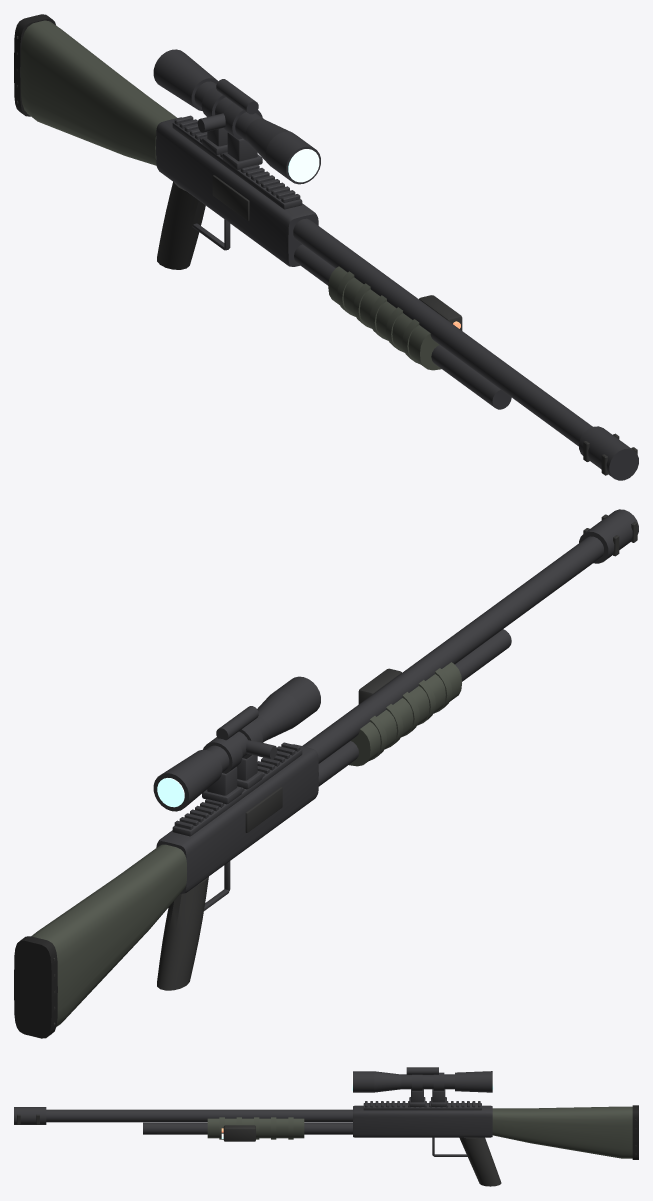
Rendered from slugshot.glb.
3 views of the same model, one above another, from view 1: azimuth 30°, elevation 25°; view 2: azimuth 150°, elevation 25°; view 3: azimuth 270°, elevation 25° (orthographic). The views are drawn at different scales.
Parts seen in each view (by area): view 1: Body; view 2: Body; view 3: Body, opt_laser.
Boxes of the visible parts, x1,y1,x2,y2 form: Body: (14,14,638,480); Body: (14,509,638,1038); Body: (14,1067,638,1186); opt_laser: (221,1125,255,1141).
Bounding box in the file's own units: 0.084 × 0.2367 × 1.16.
